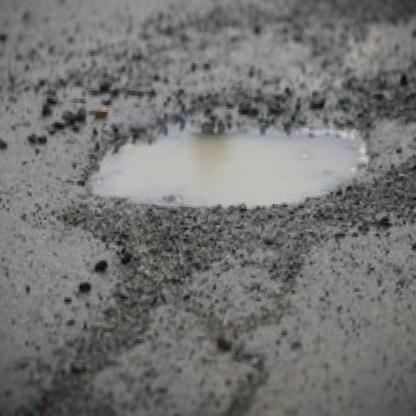pothole: (72, 85, 385, 236)
